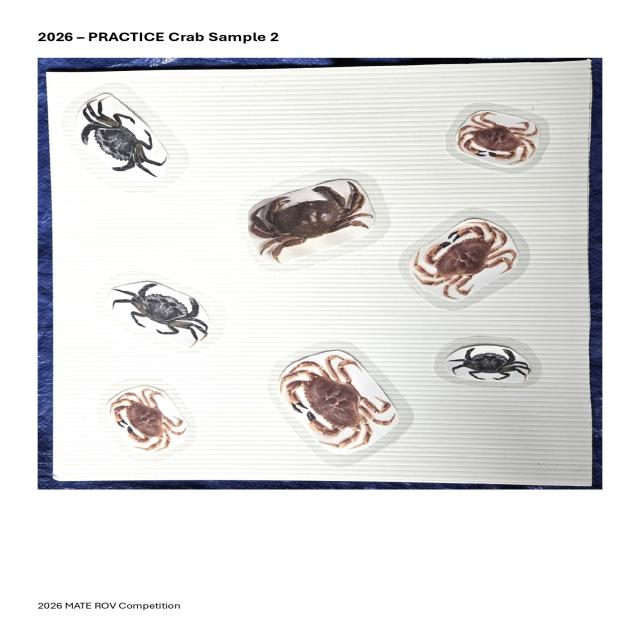egc: (64, 85, 186, 197), (94, 273, 230, 358), (418, 336, 563, 400)
